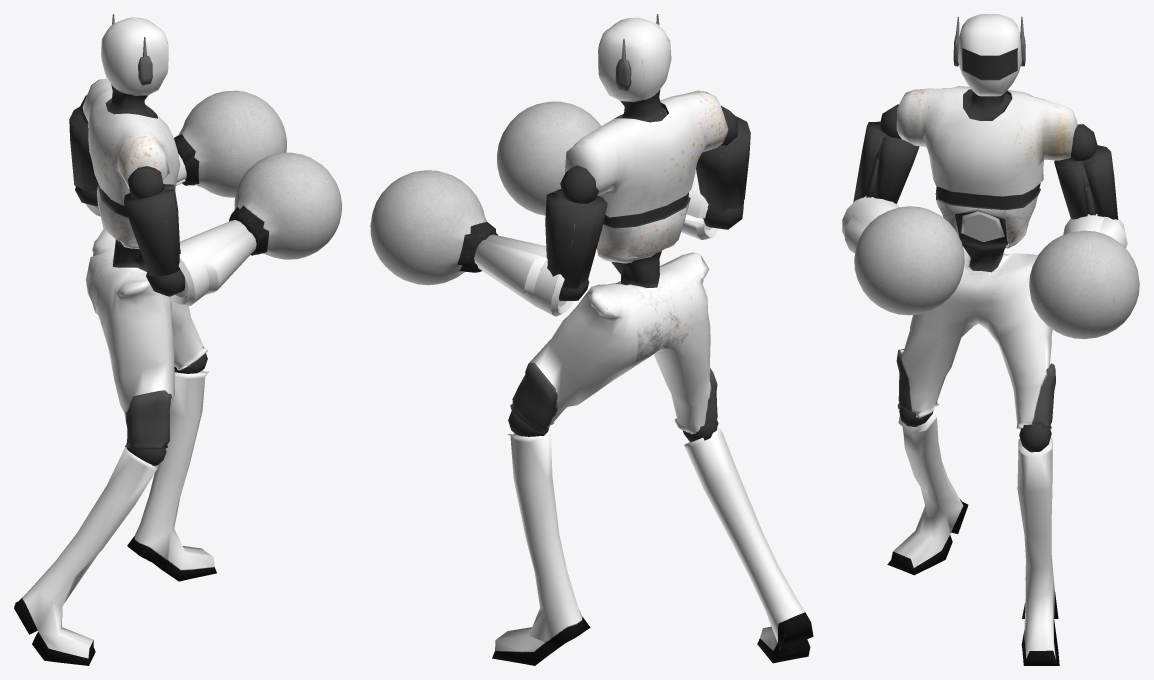
File: Neutral.obj
3 renders of one model, left to right at view 1: azimuth 30°, elevation 25°; view 2: azimuth 150°, elevation 25°; view 3: azimuth 270°, elevation 25°, orthographic. The views are drawn at different scales.
Size of the model in its own units: 2.51 by 4.22 by 1.9.
1 material, 1 textured.
